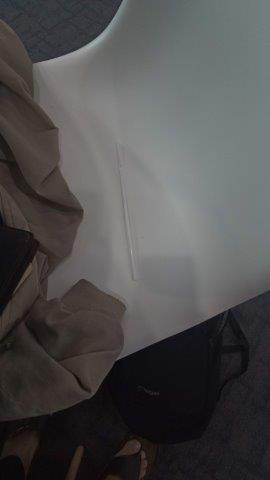sedotan: (115, 144, 139, 281)
